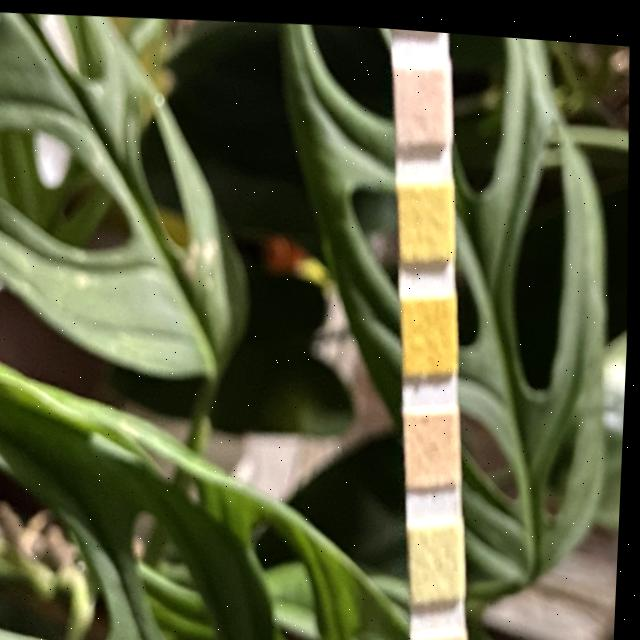Blood: (403, 288, 462, 367)
Ketone: (393, 60, 452, 139)
Protein: (414, 514, 470, 593)
SpGravity: (398, 176, 457, 255)
Urobilinogen: (420, 632, 470, 640)
pH: (409, 403, 464, 477)
